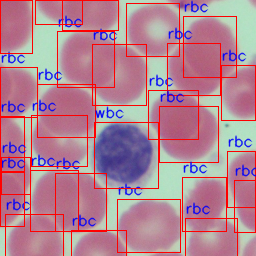rbc: (117, 199, 180, 252), (159, 106, 218, 162), (92, 44, 146, 105), (183, 16, 236, 77), (57, 31, 114, 87), (37, 84, 95, 137), (55, 173, 106, 231), (30, 170, 78, 231), (31, 115, 87, 166), (126, 3, 179, 56), (167, 43, 220, 95), (148, 90, 198, 139), (5, 214, 63, 256), (182, 177, 226, 231), (185, 218, 237, 256), (221, 65, 255, 120), (0, 67, 37, 117), (0, 0, 32, 53), (62, 0, 118, 30), (227, 151, 255, 207), (71, 230, 126, 256), (0, 116, 24, 171), (0, 172, 24, 226), (35, 0, 82, 24), (234, 180, 255, 232), (1, 157, 30, 194)
wbc: (94, 122, 158, 188)
